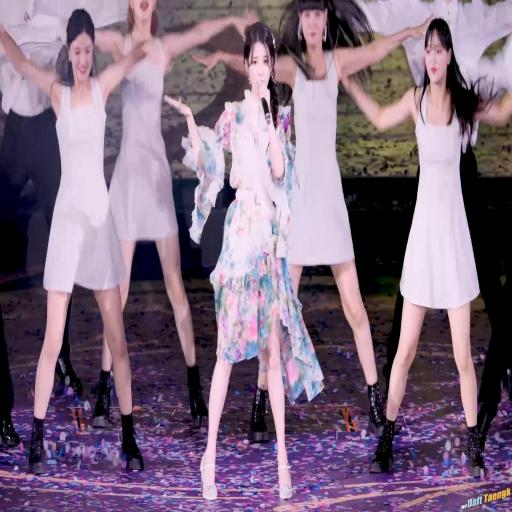IU: (243, 22, 277, 97)
